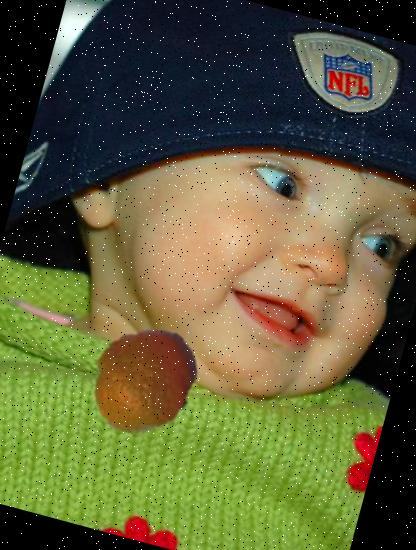Mandarine: (74, 310, 214, 450)
